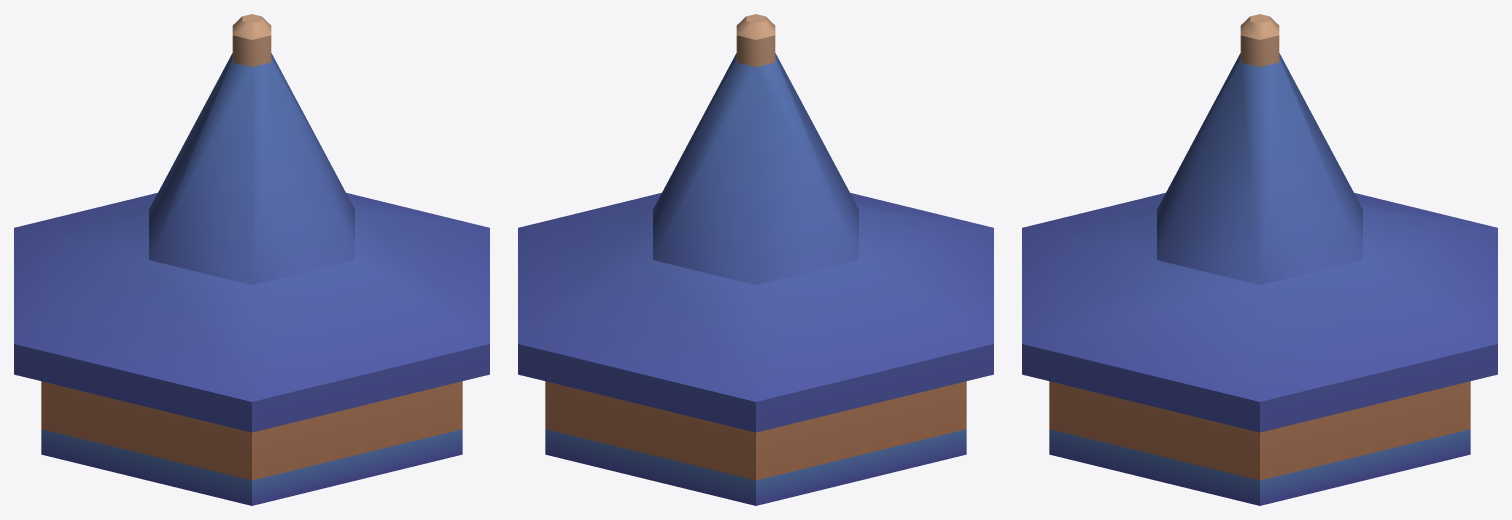
File: tower-hexagon-roof-secondary.glb
3 renders of one model, left to right at view 1: azimuth 30°, elevation 25°; view 2: azimuth 150°, elevation 25°; view 3: azimuth 270°, elevation 25°, orthographic.
Parts seen in each view (by area): view 1: tower-hexagon-roof-secondary; view 2: tower-hexagon-roof-secondary; view 3: tower-hexagon-roof-secondary.
Boxes of the visible parts, x1,y1,x2,y2 form: tower-hexagon-roof-secondary: (14,14,489,505); tower-hexagon-roof-secondary: (518,14,993,505); tower-hexagon-roof-secondary: (1022,14,1497,505).
Bounding box in the file's own units: 0.9763 × 0.7537 × 0.8455.
